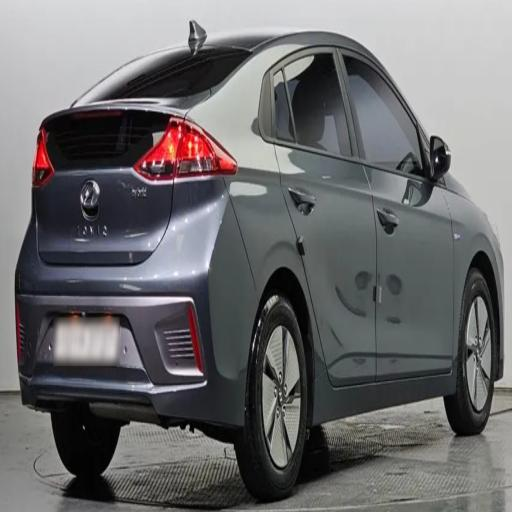normal: (8, 6, 512, 490)
